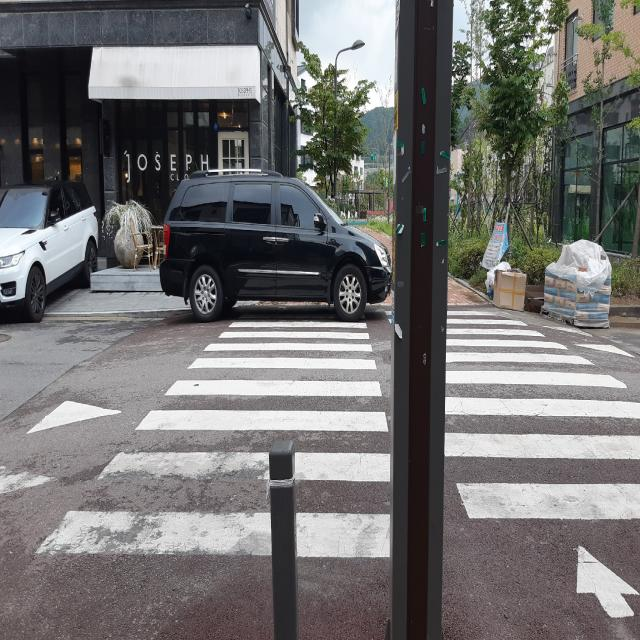횡단보도: (36, 306, 640, 619)
